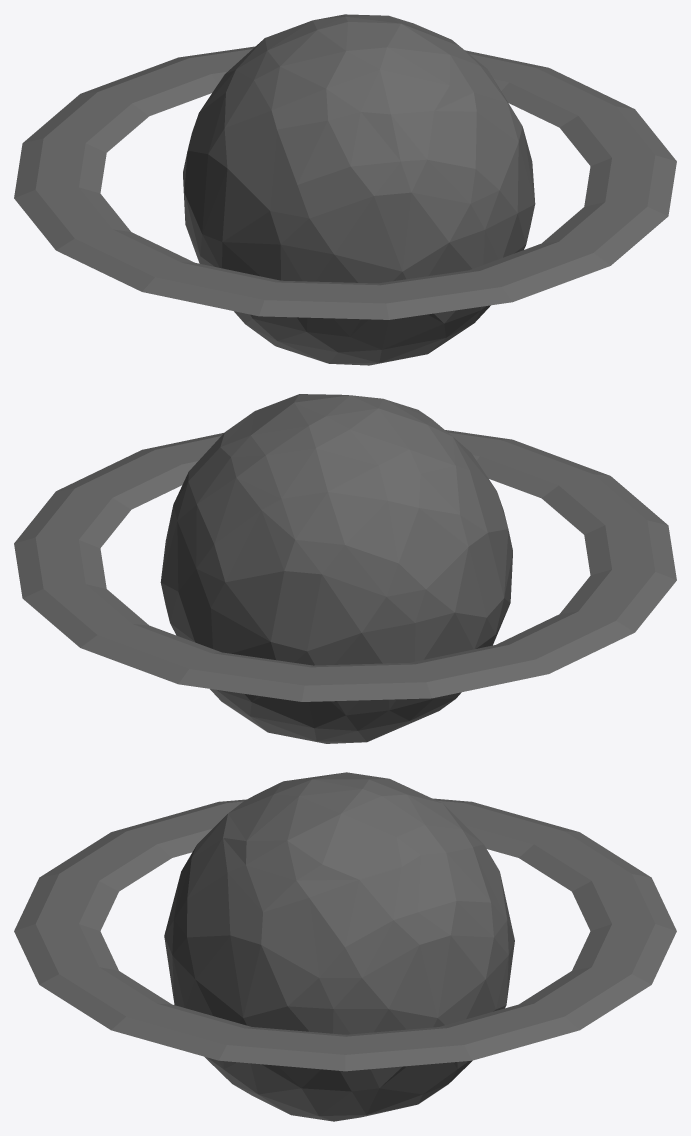
The model's file is Iron_Planet.FBX.
3 renders of one model, top to bottom at view 1: azimuth 30°, elevation 25°; view 2: azimuth 150°, elevation 25°; view 3: azimuth 270°, elevation 25°, orthographic.
Parts seen in each view (by area): view 1: Iron_Planet; view 2: Iron_Planet; view 3: Iron_Planet.
Boxes of the visible parts, x1,y1,x2,y2 form: Iron_Planet: [14, 14, 676, 365]; Iron_Planet: [14, 394, 676, 743]; Iron_Planet: [14, 772, 676, 1121].
Size of the model in its own units: 183 by 96.42 by 183.
Materials: 1 (1 with a texture image).
